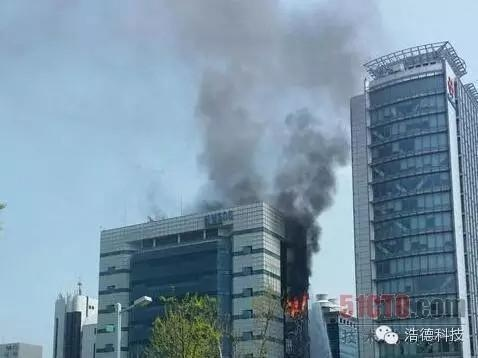fire: (285, 291, 309, 315)
